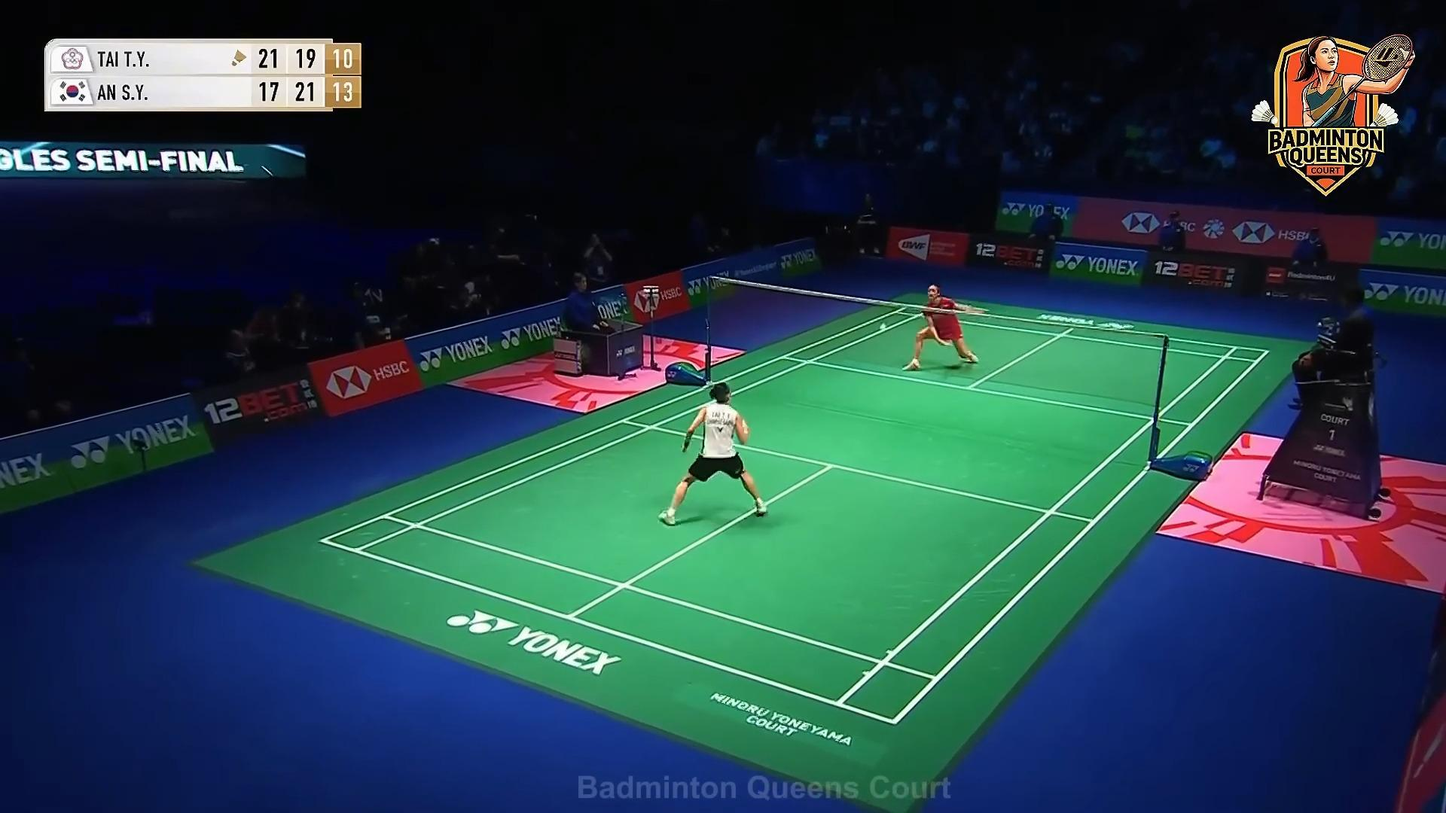shuttlecock: (878, 322, 887, 334)
